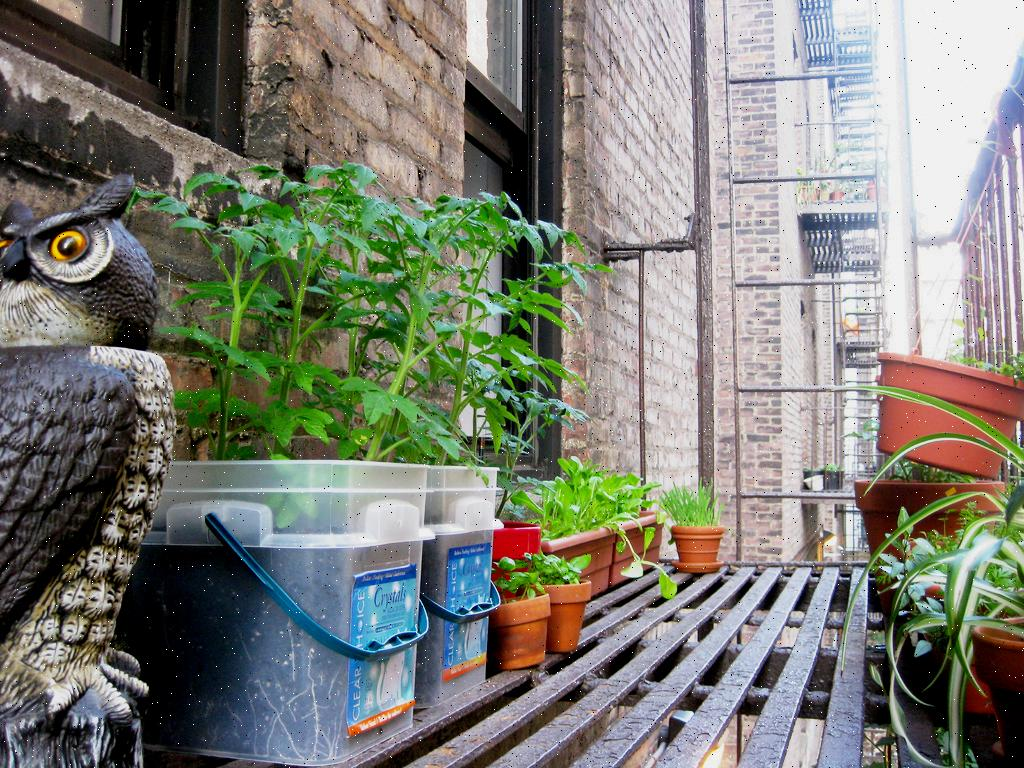Owl: (0, 176, 176, 722)
